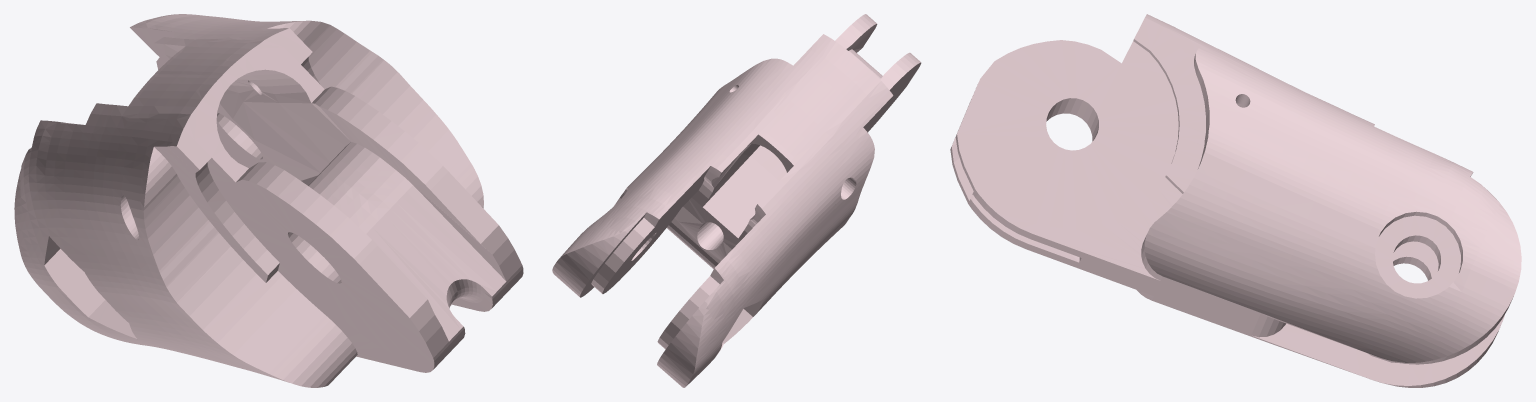
The model's file is i02_rightHand_pinkyMid_visual.obj.full.glb.
The picture shows the model from 3 angles, left to right: view 1: azimuth 30°, elevation 25°; view 2: azimuth 150°, elevation 25°; view 3: azimuth 270°, elevation 25°; orthographic projection. The views are drawn at different scales.
Bounding box in the file's own units: 0.2075 × 0.2597 × 0.3863.
